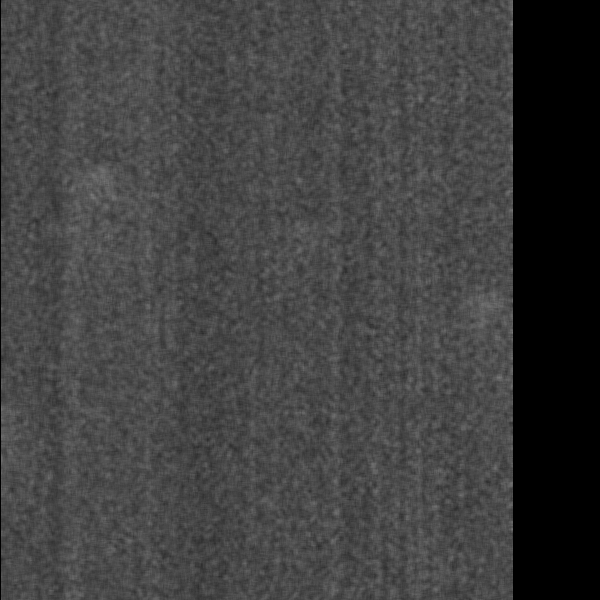spark: (9, 405, 74, 537), (128, 218, 161, 313), (433, 293, 480, 345)
